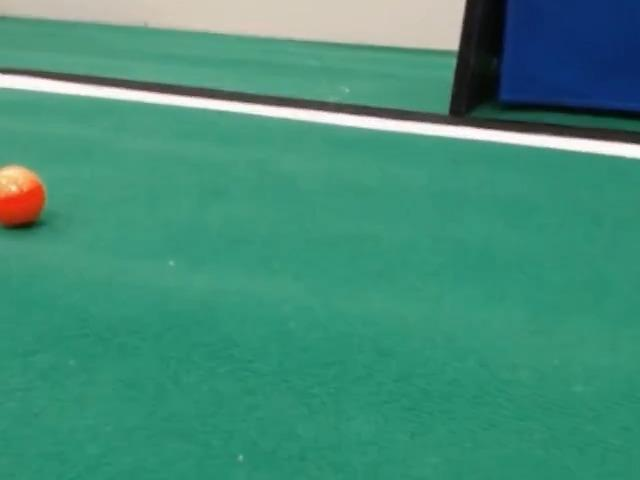Ball: (0, 165, 46, 227)
